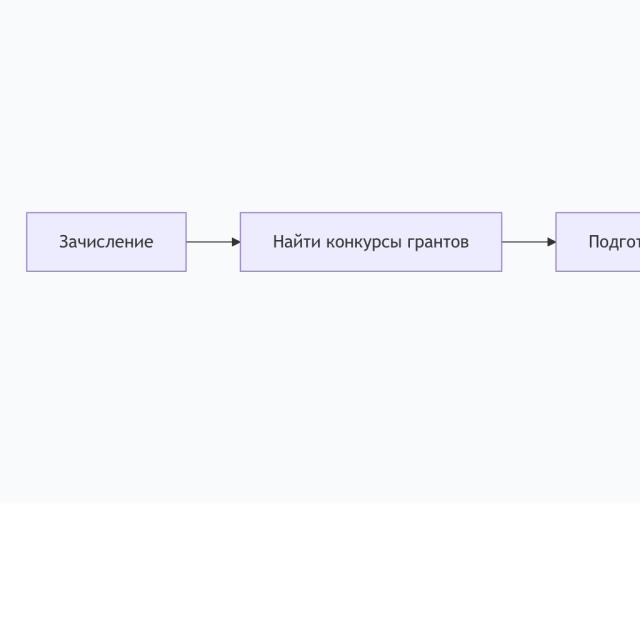arrow: (187, 235, 239, 246), (503, 237, 554, 245)
rectangle: (240, 212, 502, 271), (27, 212, 186, 271)
